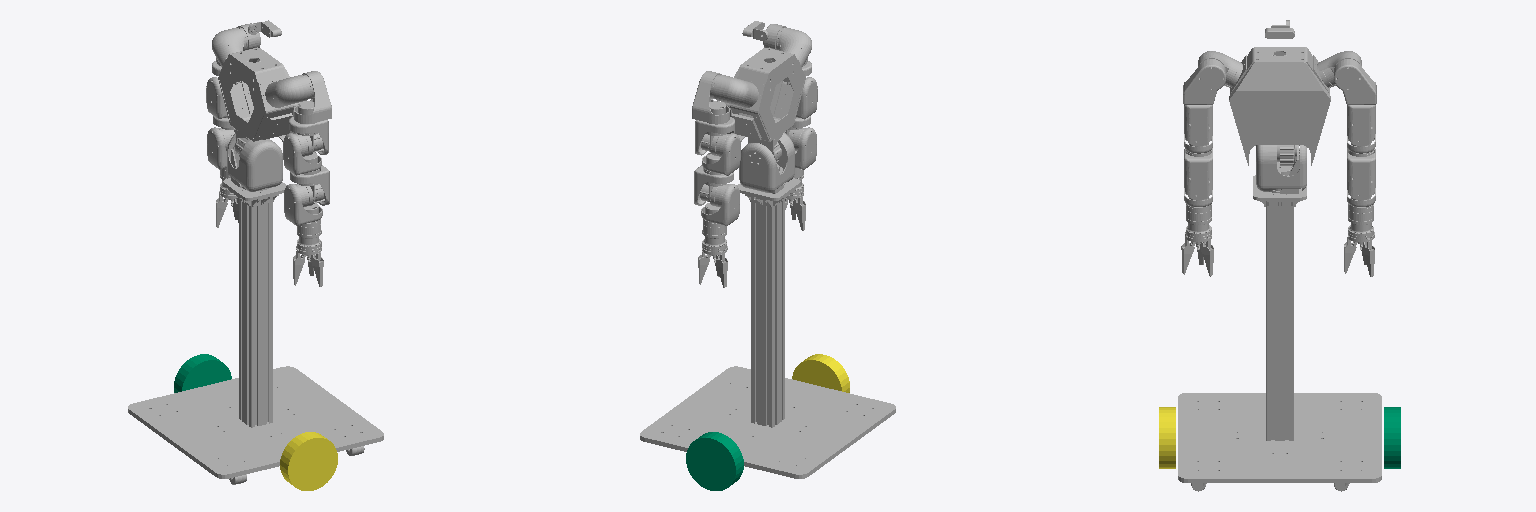
--- Render facts (derived) ---
3 views of the same robot in one strip: view 1: azimuth 30°, elevation 25°; view 2: azimuth 150°, elevation 25°; view 3: azimuth 270°, elevation 25° (orthographic).
Robot: raybotacan22 — 25 links, 24 joints (21 revolute, 2 continuous, 1 fixed); root link world; default pose: every joint at zero.
Links seen in each view (by area): view 1: base_chasis, aia2, right_wheel, aia1, ail7, left_wheel, ail6, ail4, ail1, ail2, ail3, ail5 (+4 smaller); view 2: base_chasis, aia2, left_wheel, aia1, right_wheel, air7, air6, air4, air1, air2, air3, ail6 (+4 smaller); view 3: base_chasis, aia2, aia1, ail7, air7, air2, ail2, air5, ail5, air3, ail3, left_wheel (+1 smaller).
Link boxes in pixels (left/top/right/bottom): base_chasis: left=128, top=178, right=383, bottom=484; aia2: left=218, top=47, right=299, bottom=156; right_wheel: left=280, top=432, right=337, bottom=490; aia1: left=227, top=133, right=282, bottom=191; ail7: left=293, top=203, right=323, bottom=286; left_wheel: left=174, top=354, right=231, bottom=392; ail6: left=284, top=184, right=323, bottom=225; ail4: left=283, top=133, right=322, bottom=175; ail1: left=265, top=75, right=309, bottom=107; ail2: left=294, top=71, right=331, bottom=123; ail3: left=289, top=101, right=328, bottom=154; ail5: left=290, top=153, right=329, bottom=205; base_chasis: left=640, top=178, right=895, bottom=478; aia2: left=724, top=48, right=805, bottom=162; left_wheel: left=686, top=432, right=743, bottom=490; aia1: left=739, top=133, right=794, bottom=193; right_wheel: left=792, top=354, right=849, bottom=392; air7: left=698, top=203, right=727, bottom=287; air6: left=700, top=184, right=739, bottom=225; air4: left=701, top=133, right=740, bottom=175; air1: left=714, top=75, right=758, bottom=107; air2: left=692, top=71, right=729, bottom=123; air3: left=695, top=101, right=734, bottom=155; ail6: left=784, top=127, right=816, bottom=169; base_chasis: left=1178, top=175, right=1381, bottom=491; aia2: left=1225, top=47, right=1334, bottom=165; aia1: left=1256, top=145, right=1306, bottom=193; ail7: left=1181, top=197, right=1213, bottom=276; air7: left=1344, top=197, right=1374, bottom=276; air2: left=1334, top=59, right=1376, bottom=104; ail2: left=1183, top=59, right=1225, bottom=104; air5: left=1347, top=143, right=1375, bottom=200; ail5: left=1184, top=143, right=1212, bottom=200; air3: left=1347, top=105, right=1375, bottom=146; ail3: left=1184, top=105, right=1212, bottom=146; left_wheel: left=1384, top=407, right=1400, bottom=468.
Size in the robot's own frame: 0.6 by 0.71 by 1.45 metres.
20 mesh visuals loaded from 22 distinct referenced files (20 binary STL); not drawn: 2 (reference not matched to a file when rendering).

The robot description file, URDF, robot "raybotacan22":
<?xml version="1.0" encoding="utf-8"?>
<!-- This URDF was automatically created by SolidWorks to URDF Exporter! Originally created by Stephen Brawner ([email redacted]) 
     Commit Version: 1.6.0-4-g7f85cfe  Build Version: 1.6.7995.38578
     For more information, please see http://wiki.ros.org/sw_urdf_exporter -->
<robot
  name="raybotacan22">
  <link name="world"/>
  <link
    name="base_chasis">
    <inertial>
      <origin
        xyz="0.000477702581074855 -0.00131261661421741 0.10354543068427"
        rpy="0 0 0" />
      <mass
        value="57.9795305796075" />
      <inertia
        ixx="1.78841728427267"
        ixy="9.16539713933502E-08"
        ixz="4.37549429419354E-10"
        iyy="1.78887745050641"
        iyz="-3.01983421149808E-05"
        izz="2.55269034678823" />
    </inertial>
    <visual>
      <origin
        xyz="0 0 0"
        rpy="0 0 0" />
      <geometry>
        <mesh
          filename="package://URDF/meshes/ai.STL" />
      </geometry>
      <material
        name="">
        <color
          rgba="0.752941176470588 0.752941176470588 0.752941176470588 1" />
      </material>
    </visual>
    <collision>
      <origin
        xyz="0 0 0"
        rpy="0 0 0" />
      <geometry>
        <mesh
          filename="package://URDF/meshes/ai.STL" />
      </geometry>
    </collision>
  </link>

  <joint name="world_joint" type="fixed">
    <origin xyz="0 0 0" rpy="0 0 0"/>
    <parent link="world"/>
    <child link="base_chasis"/>
  </joint>  
  
  <link name="left_wheel">
   <inertial>
    <mass value="5"/>
    <inertia
     ixx="0.1" ixy="0" ixz="0"
     iyy="0.1" iyz="0"
     izz="0.1"/>
   </inertial>

   <visual name="left_wheel_visual">
    <origin rpy="0 1.5707 1.5707" xyz="0 0 0"/>
    <geometry>
     <cylinder length="0.05" radius="0.09"/>
    </geometry>
   </visual>

   <collision name="left_wheel_collision">
    <origin rpy="0 1.5707 1.5707" xyz="0 0 0"/>
    <geometry>
     <cylinder length="0.05" radius="0.09"/>
    </geometry>
   </collision>
  </link>

  <joint name="left_wheel_joint" type="continuous">
    <origin xyz="0 0.33 0" rpy="0 0 0"/>
    <parent link="base_chasis"/>
    <child link="left_wheel"/>
    <axis xyz="0 1 0" rpy="0 0 0"/>
    <limit effort="1000" velocity="1000"/>
    <dynamic damping="1.0" friction="1.0"/>
  </joint>

  <link name="right_wheel">
   <inertial>
    <mass value="5"/>
    <inertia
     ixx="0.1" ixy="0" ixz="0"
     iyy="0.1" iyz="0"
     izz="0.1"/>
   </inertial>

   <visual name="right_wheel_visual">
    <origin rpy="0 -1.5707 1.5707" xyz="0 0 0"/>
    <geometry>
     <cylinder length="0.05" radius="0.09"/>
    </geometry>
   </visual>

   <collision name="right_wheel_collision">
    <origin rpy="0 -1.5707 1.5707" xyz="0 0 0"/>
    <geometry>
     <cylinder length="0.05" radius="0.09"/>
    </geometry>
   </collision>
  </link>

  <joint name="right_wheel_joint" type="continuous">
    <origin xyz="0 -0.33 0" rpy="0 0 0"/>
    <parent link="base_chasis"/>
    <child link="right_wheel"/>
    <axis xyz="0 1 0" rpy="0 0 0"/>
    <limit effort="1000" velocity="1000"/>
    <dynamic damping="1.0" friction="1.0"/>
  </joint>


  <link
    name="aia1">
    <inertial>
      <origin
        xyz="9.55990591309294E-05 0.0122165490390095 0.0542839940830137"
        rpy="0 0 0" />
      <mass
        value="3.5097858246545" />
      <inertia
        ixx="0.0123862229468066"
        ixy="7.07687040546559E-07"
        ixz="7.16997745756968E-08"
        iyy="0.0107160246961095"
        iyz="-0.000361916903254579"
        izz="0.01240074125766" />
    </inertial>
    <visual>
      <origin
        xyz="0 0 0"
        rpy="0 0 0" />
      <geometry>
        <mesh
          filename="package://URDF/meshes/aia1.STL" />
      </geometry>
      <material
        name="">
        <color
          rgba="0.752941176470588 0.752941176470588 0.752941176470588 1" />
      </material>
    </visual>
    <collision>
      <origin
        xyz="0 0 0"
        rpy="0 0 0" />
      <geometry>
        <mesh
          filename="package://URDF/meshes/aia1.STL" />
      </geometry>
    </collision>
  </link>
  <joint
    name="ia1"
    type="revolute">
    <origin
      xyz="0 0 0.8235"
      rpy="0 0 0" />
    <parent
      link="base_chasis"/>
    <child
      link="aia1" />
    <axis
      xyz="0 0 1" />
    <limit
      lower="0"
      upper="0"
      effort="0"
      velocity="0" />
  </joint>
  <link
    name="aia2">
    <inertial>
      <origin
        xyz="0.0207105695496934 0.15549630853959 0.0422191791471108"
        rpy="0 0 0" />
      <mass
        value="11.5092978911004" />
      <inertia
        ixx="0.111894811595065"
        ixy="-0.00122753004573843"
        ixz="-3.87850448344067E-07"
        iyy="0.0789799485369126"
        iyz="-0.000298183073814912"
        izz="0.0488817529527659" />
    </inertial>
    <visual>
      <origin
        xyz="0 0 0"
        rpy="0 0 0" />
      <geometry>
        <mesh
          filename="package://URDF/meshes/aia2.STL" />
      </geometry>
      <material
        name="">
        <color
          rgba="0.752941176470588 0.752941176470588 0.752941176470588 1" />
      </material>
    </visual>
    <collision>
      <origin
        xyz="0 0 0"
        rpy="0 0 0" />
      <geometry>
        <mesh
          filename="package://URDF/meshes/aia2.STL" />
      </geometry>
    </collision>
  </link>
  <joint
    name="ia2"
    type="revolute">
    <origin
      xyz="0 0.045 0.115"
      rpy="1.5707963267949 0 0" />
    <parent
      link="aia1" />
    <child
      link="aia2" />
    <axis
      xyz="0 0 1" />
    <limit
      lower="0"
      upper="0"
      effort="0"
      velocity="0" />
  </joint>
  <link
    name="air1">
    <inertial>
      <origin
        xyz="0.00496010592416387 1.65068144599156E-05 -0.0203566709873281"
        rpy="0 0 0" />
      <mass
        value="0.704319744476214" />
      <inertia
        ixx="0.00117996029784947"
        ixy="-2.96296384386495E-07"
        ixz="0.000190450484413653"
        iyy="0.00111183962157051"
        iyz="-7.91473469672234E-08"
        izz="0.000992048080544377" />
    </inertial>
    <visual>
      <origin
        xyz="0 0 0"
        rpy="0 0 0" />
      <geometry>
        <mesh
          filename="package://URDF/meshes/air1.STL" />
      </geometry>
      <material
        name="">
        <color
          rgba="0.752941176470588 0.752941176470588 0.752941176470588 1" />
      </material>
    </visual>
    <collision>
      <origin
        xyz="0 0 0"
        rpy="0 0 0" />
      <geometry>
        <mesh
          filename="package://URDF/meshes/air1.STL" />
      </geometry>
    </collision>
  </link>
  <joint
    name="ir1"
    type="revolute">
    <origin
      xyz="2.47957237236168E-05 0.258705080756889 -0.121309875104682"
      rpy="0.523598775598286 0 0" />
    <parent
      link="aia2" />
    <child
      link="air1" />
    <axis
      xyz="0 0 1" />
    <limit
      lower="0"
      upper="0"
      effort="0"
      velocity="0" />
  </joint>
  <link
    name="air2">
    <inertial>
      <origin
        xyz="-0.0238840674777523 -0.00284989864727919 0.00733259273008347"
        rpy="0 0 0" />
      <mass
        value="2.16696749176185" />
      <inertia
        ixx="0.00224310851385974"
        ixy="-0.000265616580259458"
        ixz="-0.000514097509204816"
        iyy="0.00362773220471222"
        iyz="3.43332755444889E-05"
        izz="0.00405898161338322" />
    </inertial>
    <visual>
      <origin
        xyz="0 0 0"
        rpy="0 0 0" />
      <geometry>
        <mesh
          filename="package://URDF/meshes/air2.STL" />
      </geometry>
      <material
        name="">
        <color
          rgba="0.752941176470588 0.752941176470588 0.752941176470588 1" />
      </material>
    </visual>
    <collision>
      <origin
        xyz="0 0 0"
        rpy="0 0 0" />
      <geometry>
        <mesh
          filename="package://URDF/meshes/air2.STL" />
      </geometry>
    </collision>
  </link>
  <joint
    name="ir2"
    type="revolute">
    <origin
      xyz="0.066 0 -0.04"
      rpy="1.5707963267949 0 1.5707963267949" />
    <parent
      link="air1" />
    <child
      link="air2" />
    <axis
      xyz="0 0 1" />
    <limit
      lower="0"
      upper="0"
      effort="0"
      velocity="0" />
  </joint>
  <link
    name="air3">
    <inertial>
      <origin
        xyz="0.00163217644327796 0.0175350926353326 -0.0392794600481056"
        rpy="0 0 0" />
      <mass
        value="2.43210030597648" />
      <inertia
        ixx="0.00480738048481121"
        ixy="-1.26720748440508E-06"
        ixz="7.85074902722581E-07"
        iyy="0.00424325255277065"
        iyz="0.00112617134750392"
        izz="0.00391626846505219" />
    </inertial>
    <visual>
      <origin
        xyz="0 0 0"
        rpy="0 0 0" />
      <geometry>
        <mesh
          filename="package://URDF/meshes/air3.STL" />
      </geometry>
      <material
        name="">
        <color
          rgba="0.752941176470588 0.752941176470588 0.752941176470588 1" />
      </material>
    </visual>
    <collision>
      <origin
        xyz="0 0 0"
        rpy="0 0 0" />
      <geometry>
        <mesh
          filename="package://URDF/meshes/air3.STL" />
      </geometry>
    </collision>
  </link>
  <joint
    name="ir3"
    type="revolute">
    <origin
      xyz="-0.0934146766390931 0.00820103388847249 -0.0199999999999999"
      rpy="1.5707963267949 0 1.04719755119661" />
    <parent
      link="air2" />
    <child
      link="air3" />
    <axis
      xyz="0 0 1" />
    <limit
      lower="0"
      upper="0"
      effort="0"
      velocity="0" />
  </joint>
  <link
    name="air4">
    <inertial>
      <origin
        xyz="1.06676075112278E-05 -0.0174139708848574 0.0220470372194081"
        rpy="0 0 0" />
      <mass
        value="1.60575264215693" />
      <inertia
        ixx="0.00186489394892785"
        ixy="3.06088058565535E-07"
        ixz="-1.56495385416094E-07"
        iyy="0.00152451023223127"
        iyz="0.00031789895918364"
        izz="0.00214448037696319" />
    </inertial>
    <visual>
      <origin
        xyz="0 0 0"
        rpy="0 0 0" />
      <geometry>
        <mesh
          filename="package://URDF/meshes/air4.STL" />
      </geometry>
      <material
        name="">
        <color
          rgba="0.752941176470588 0.752941176470588 0.752941176470588 1" />
      </material>
    </visual>
    <collision>
      <origin
        xyz="0 0 0"
        rpy="0 0 0" />
      <geometry>
        <mesh
          filename="package://URDF/meshes/air4.STL" />
      </geometry>
    </collision>
  </link>
  <joint
    name="ir4"
    type="revolute">
    <origin
      xyz="0.00160503463483186 -0.0475000000000055 -0.0884999999999992"
      rpy="1.5707963267949 0 3.14159265358979" />
    <parent
      link="air3" />
    <child
      link="air4" />
    <axis
      xyz="0 0 -1" />
    <limit
      lower="0"
      upper="0"
      effort="0"
      velocity="0" />
  </joint>
  <link
    name="air5">
    <inertial>
      <origin
        xyz="2.4373236247488E-05 0.0175198912459822 -0.0432794600387087"
        rpy="0 0 0" />
      <mass
        value="2.43210030636314" />
      <inertia
        ixx="0.00480774946362263"
        ixy="-1.47460168717547E-06"
        ixz="8.08404778933603E-07"
        iyy="0.00424288357424889"
        iyz="0.00112654686883093"
        izz="0.0039162684651507" />
    </inertial>
    <visual>
      <origin
        xyz="0 0 0"
        rpy="0 0 0" />
      <geometry>
        <mesh
          filename="package://URDF/meshes/air5.STL" />
      </geometry>
      <material
        name="">
        <color
          rgba="0.752941176470588 0.752941176470588 0.752941176470588 1" />
      </material>
    </visual>
    <collision>
      <origin
        xyz="0 0 0"
        rpy="0 0 0" />
      <geometry>
        <mesh
          filename="package://URDF/meshes/air5.STL" />
      </geometry>
    </collision>
  </link>
  <joint
    name="ir5"
    type="revolute">
    <origin
      xyz="0 -0.0809999999999995 0.0510000000000058"
      rpy="1.5707963267949 0 -3.14159265358979" />
    <parent
      link="air4" />
    <child
      link="air5" />
    <axis
      xyz="0 0 1" />
    <limit
      lower="0"
      upper="0"
      effort="0"
      velocity="0" />
  </joint>
  <link
    name="air6">
    <inertial>
      <origin
        xyz="0.000482151908676648 -0.0174189067798282 0.0217500155982719"
        rpy="0 0 0" />
      <mass
        value="1.60575264215696" />
      <inertia
        ixx="0.00186458811162898"
        ixy="9.90203978632472E-06"
        ixz="-8.83428324940965E-06"
        iyy="0.00152481606953021"
        iyz="0.000318001523026556"
        izz="0.00214448037696325" />
    </inertial>
    <visual>
      <origin
        xyz="0 0 0"
        rpy="0 0 0" />
      <geometry>
        <mesh
          filename="package://URDF/meshes/air6.STL" />
      </geometry>
      <material
        name="">
        <color
          rgba="0.752941176470588 0.752941176470588 0.752941176470588 1" />
      </material>
    </visual>
    <collision>
      <origin
        xyz="0 0 0"
        rpy="0 0 0" />
      <geometry>
        <mesh
          filename="package://URDF/meshes/air6.STL" />
      </geometry>
    </collision>
  </link>
  <joint
    name="ir6"
    type="revolute">
    <origin
      xyz="0 -0.0475000000000002 -0.0925000000000014"
      rpy="1.5707963267949 0.0282707829703375 -3.14159265358979" />
    <parent
      link="air5" />
    <child
      link="air6" />
    <axis
      xyz="0 0 -1" />
    <limit
      lower="0"
      upper="0"
      effort="0"
      velocity="0" />
  </joint>
  <link
    name="air7">
    <inertial>
      <origin
        xyz="-6.27123841931421E-06 1.72977291047066E-05 -0.0852735858335784"
        rpy="0 0 0" />
      <mass
        value="2.39752294354751" />
      <inertia
        ixx="0.00117179090988846"
        ixy="4.3870837845693E-07"
        ixz="1.80121704160013E-07"
        iyy="0.00117303062393052"
        iyz="6.15780063159447E-08"
        izz="0.0015602934918433" />
    </inertial>
    <visual>
      <origin
        xyz="0 0 0"
        rpy="0 0 0" />
      <geometry>
        <mesh
          filename="package://URDF/meshes/air7.STL" />
      </geometry>
      <material
        name="">
        <color
          rgba="0.752941176470588 0.752941176470588 0.752941176470588 1" />
      </material>
    </visual>
    <collision>
      <origin
        xyz="0 0 0"
        rpy="0 0 0" />
      <geometry>
        <mesh
          filename="package://URDF/meshes/air7.STL" />
      </geometry>
    </collision>
  </link>
  <joint
    name="ir7"
    type="revolute">
    <origin
      xyz="0.00228962839946859 -0.0809676330504502 0.0509999999999999"
      rpy="1.5707963267949 0 -3.11332187061946" />
    <parent
      link="air6" />
    <child
      link="air7" />
    <axis
      xyz="0 0 1" />
    <limit
      lower="0"
      upper="0"
      effort="0"
      velocity="0" />
  </joint>
  <link
    name="air8">
    <inertial>
      <origin
        xyz="0.000197061685967531 -9.86050862588836E-05 0.00492806950736784"
        rpy="0 0 0" />
      <mass
        value="0.390289005168159" />
      <inertia
        ixx="9.45017078208456E-05"
        ixy="-3.21617522496737E-07"
        ixz="1.36869495803431E-07"
        iyy="9.42772763134407E-05"
        iyz="-6.84737393252382E-08"
        izz="0.000165504195650422" />
    </inertial>
    <visual>
      <origin
        xyz="0 0 0"
        rpy="0 0 0" />
      <geometry>
        <mesh
          filename="package://URDF/meshes/air8.STL" />
      </geometry>
      <material
        name="">
        <color
          rgba="0.752941176470588 0.752941176470588 0.752941176470588 1" />
      </material>
    </visual>
    <collision>
      <origin
        xyz="0 0 0"
        rpy="0 0 0" />
      <geometry>
        <mesh
          filename="package://URDF/meshes/air8.STL" />
      </geometry>
    </collision>
  </link>
  <joint
    name="ir8"
    type="revolute">
    <origin
      xyz="0 0 -0.0945000000000031"
      rpy="0 0 0" />
    <parent
      link="air7" />
    <child
      link="air8" />
    <axis
      xyz="0 0 -1" />
    <limit
      lower="0"
      upper="0"
      effort="0"
      velocity="0" />
  </joint>
  <link
    name="ail1">
    <inertial>
      <origin
        xyz="0.00496004624344822 -1.96384237853842E-05 0.0203566934494321"
        rpy="0 0 0" />
      <mass
        value="0.704317483213741" />
      <inertia
        ixx="0.00117995852107559"
        ixy="2.96572984804185E-07"
        ixz="-0.00019045018707873"
        iyy="0.0011118396010713"
        iyz="-7.77434746497655E-08"
        izz="0.000992047320248837" />
    </inertial>
    <visual>
      <origin
        xyz="0 0 0"
        rpy="0 0 0" />
      <geometry>
        <mesh
          filename="package://URDF/meshes/ail1.STL" />
      </geometry>
      <material
        name="">
        <color
          rgba="0.752941176470588 0.752941176470588 0.752941176470588 1" />
      </material>
    </visual>
    <collision>
      <origin
        xyz="0 0 0"
        rpy="0 0 0" />
      <geometry>
        <mesh
          filename="package://URDF/meshes/ail1.STL" />
      </geometry>
    </collision>
  </link>
  <joint
    name="il1"
    type="revolute">
    <origin
      xyz="2.47957237256239E-05 0.258705080756887 0.211251213389434"
      rpy="-0.523598775598299 0 0" />
    <parent
      link="aia2" />
    <child
      link="ail1" />
    <axis
      xyz="0 0 -1" />
    <limit
      lower="0"
      upper="0"
      effort="0"
      velocity="0" />
  </joint>
  <link
    name="ail2">
    <inertial>
      <origin
        xyz="-0.0238685443238983 0.00285256462574018 0.00733243611898823"
        rpy="0 0 0" />
      <mass
        value="2.16696572771331" />
      <inertia
        ixx="0.00224326685033901"
        ixy="0.000265022932734069"
        ixz="-0.000513814042185544"
        iyy="0.00362752451677224"
        iyz="-3.42658602173161E-05"
        izz="0.00405899154488006" />
    </inertial>
    <visual>
      <origin
        xyz="0 0 0"
        rpy="0 0 0" />
      <geometry>
        <mesh
          filename="package://URDF/meshes/ail2.STL" />
      </geometry>
      <material
        name="">
        <color
          rgba="0.752941176470588 0.752941176470588 0.752941176470588 1" />
      </material>
    </visual>
    <collision>
      <origin
        xyz="0 0 0"
        rpy="0 0 0" />
      <geometry>
        <mesh
          filename="package://URDF/meshes/ail2.STL" />
      </geometry>
    </collision>
  </link>
  <joint
    name="il2"
    type="revolute">
    <origin
      xyz="0.066 0 0.0399999999999974"
      rpy="1.5707963267949 0 1.5707963267949" />
    <parent
      link="ail1" />
    <child
      link="ail2" />
    <axis
      xyz="0 0 1" />
    <limit
      lower="0"
      upper="0"
      effort="0"
      velocity="0" />
  </joint>
  <link
    name="ail3">
    <inertial>
      <origin
        xyz="2.11059401468427E-05 0.0121959559738994 -0.0257424941571686"
        rpy="0 0 0" />
      <mass
        value="1.74913628406169" />
      <inertia
        ixx="0.00267899013511265"
        ixy="-7.61971896469586E-07"
        ixz="3.64074720533394E-07"
        iyy="0.00242971938365454"
        iyz="0.0005629931992217"
        izz="0.00241131762952659" />
    </inertial>
    <visual>
      <origin
        xyz="0 0 0"
        rpy="0 0 0" />
      <geometry>
        <mesh
          filename="package://URDF/meshes/ail3.STL" />
      </geometry>
      <material
        name="">
        <color
          rgba="0.752941176470588 0.752941176470588 0.752941176470588 1" />
      </material>
    </visual>
    <collision>
      <origin
        xyz="0 0 0"
        rpy="0 0 0" />
      <geometry>
        <mesh
          filename="package://URDF/meshes/ail3.STL" />
      </geometry>
    </collision>
  </link>
  <joint
    name="il3"
    type="revolute">
    <origin
      xyz="-0.0990207473096856 -0.0132910346561897 -0.02"
      rpy="1.5707963267949 0 2.0943951023932" />
    <parent
      link="ail2" />
    <child
      link="ail3" />
    <axis
      xyz="0 0 1" />
    <limit
      lower="0"
      upper="0"
      effort="0"
      velocity="0" />
  </joint>
  <link
    name="ail4">
    <inertial>
      <origin
        xyz="-1.16779342086704E-05 -0.0174223767005539 0.0220470372186569"
        rpy="0 0 0" />
      <mass
        value="1.60575264205191" />
      <inertia
        ixx="0.00186509332216502"
        ixy="4.33271645638664E-07"
        ixz="1.84322713104503E-07"
        iyy="0.00152431085897292"
        iyz="0.000318075486156483"
        izz="0.00214448037694084" />
    </inertial>
    <visual>
      <origin
        xyz="0 0 0"
        rpy="0 0 0" />
      <geometry>
        <mesh
          filename="package://URDF/meshes/ail4.STL" />
      </geometry>
      <material
        name="">
        <color
          rgba="0.752941176470588 0.752941176470588 0.752941176470588 1" />
      </material>
    </visual>
    <collision>
      <origin
        xyz="0 0 0"
        rpy="0 0 0" />
      <geometry>
        <mesh
          filename="package://URDF/meshes/ail4.STL" />
      </geometry>
    </collision>
  </link>
  <joint
    name="il4"
    type="revolute">
    <origin
      xyz="0 -0.0475000000000062 -0.0810999999999941"
      rpy="1.5707963267949 0 -3.14159265358979" />
    <parent
      link="ail3" />
    <child
      link="ail4" />
    <axis
      xyz="0 0 -1" />
    <limit
      lower="0"
      upper="0"
      effort="0"
      velocity="0" />
  </joint>
  <link
    name="ail5">
    <inertial>
      <origin
        xyz="2.10708434758844E-05 0.0121959714363295 -0.0371424941575489"
        rpy="0 0 0" />
      <mass
        value="1.74913628404885" />
      <inertia
        ixx="0.00267899192659596"
        ixy="-7.64652641072267E-07"
        ixz="3.64716990251312E-07"
        iyy="0.00242971759216793"
        iyz="0.000562993002769313"
        izz="0.00241131762952712" />
    </inertial>
    <visual>
      <origin
        xyz="0 0 0"
        rpy="0 0 0" />
      <geometry>
        <mesh
          filename="package://URDF/meshes/ail5.STL" />
      </geometry>
      <material
        name="">
        <color
          rgba="0.752941176470588 0.752941176470588 0.752941176470588 1" />
      </material>
    </visual>
    <collision>
      <origin
        xyz="0 0 0"
        rpy="0 0 0" />
      <geometry>
        <mesh
          filename="package://URDF/meshes/ail5.STL" />
      </geometry>
    </collision>
  </link>
  <joint
    name="il5"
    type="revolute">
    <origin
      xyz="0 -0.0809999999999985 0.0510000000000032"
      rpy="1.57079632679488 0 3.14159265358979" />
    <parent
      link="ail4" />
    <child
      link="ail5" />
    <axis
      xyz="0 0 1" />
    <limit
      lower="0"
      upper="0"
      effort="0"
      velocity="0" />
  </joint>
  <link
    name="ail6">
    <inertial>
      <origin
        xyz="1.1670302302591E-05 -0.0174165231187286 0.0227500155975048"
        rpy="0 0 0" />
      <mass
        value="1.60575264205193" />
      <inertia
        ixx="0.00186506784458229"
        ixy="4.24272906435577E-07"
        ixz="-1.7733801874235E-07"
        iyy="0.00152433633655576"
        iyz="0.000317937805651959"
        izz="0.00214448037694094" />
    </inertial>
    <visual>
      <origin
        xyz="0 0 0"
        rpy="0 0 0" />
      <geometry>
        <mesh
          filename="package://URDF/meshes/ail6.STL" />
      </geometry>
      <material
        name="">
        <color
          rgba="0.752941176470588 0.752941176470588 0.752941176470588 1" />
      </material>
    </visual>
    <collision>
      <origin
        xyz="0 0 0"
        rpy="0 0 0" />
      <geometry>
        <mesh
          filename="package://URDF/meshes/ail6.STL" />
      </geometry>
    </collision>
  </link>
  <joint
    name="il6"
    type="revolute">
    <origin
      xyz="0 -0.0485000000000052 -0.0924999999999905"
      rpy="1.5707963267949 0 3.14159265358979" />
    <parent
      link="ail5" />
    <child
      link="ail6" />
    <axis
      xyz="0 0 -1" />
    <limit
      lower="0"
      upper="0"
      effort="0"
      velocity="0" />
  </joint>
  <link
    name="ail7">
    <inertial>
      <origin
        xyz="-9.20476541399484E-06 1.73085905766368E-05 -0.0852735858214986"
        rpy="0 0 0" />
      <mass
        value="2.39752294323105" />
      <inertia
        ixx="0.00117181593551462"
        ixy="2.87615788709289E-07"
        ixz="1.80160850628637E-07"
        iyy="0.00117300559744483"
        iyz="6.13844283252583E-08"
        izz="0.00156029349191111" />
    </inertial>
    <visual>
      <origin
        xyz="0 0 0"
        rpy="0 0 0" />
      <geometry>
        <mesh
          filename="package://URDF/meshes/ail7.STL" />
      </geometry>
      <material
        name="">
        <color
          rgba="0.752941176470588 0.752941176470588 0.752941176470588 1" />
      </material>
    </visual>
    <collision>
      <origin
        xyz="0 0 0"
        rpy="0 0 0" />
      <geometry>
        <mesh
          filename="package://URDF/meshes/ail7.STL" />
      </geometry>
    </collision>
  </link>
  <joint
    name="il7"
    type="revolute">
    <origin
      xyz="0 -0.0810000000000019 0.0519999999999984"
      rpy="1.57079632679493 0 -3.14159265358978" />
    <parent
      link="ail6" />
    <child
      link="ail7" />
    <axis
      xyz="0 0 1" />
    <limit
      lower="0"
      upper="0"
      effort="0"
      velocity="0" />
  </joint>
  <link
    name="ail8">
    <inertial>
      <origin
        xyz="0.000207223599237388 -7.49312968874039E-05 0.000428070235120787"
        rpy="0 0 0" />
      <mass
        value="0.39028899829773" />
      <inertia
        ixx="9.45732112377983E-05"
        ixy="-2.8684008832689E-07"
        ixz="1.43926016023545E-07"
        iyy="9.4205771314023E-05"
        iyz="-5.2031150841198E-08"
        izz="0.000165504195607535" />
    </inertial>
    <visual>
      <origin
        xyz="0 0 0"
        rpy="0 0 0" />
      <geometry>
        <mesh
          filename="package://URDF/meshes/ail8.STL" />
      </geometry>
      <material
        name="">
        <color
          rgba="0.752941176470588 0.752941176470588 0.752941176470588 1" />
      </material>
    </visual>
    <collision>
      <origin
        xyz="0 0 0"
        rpy="0 0 0" />
      <geometry>
        <mesh
          filename="package://URDF/meshes/ail8.STL" />
      </geometry>
    </collision>
  </link>
  <joint
    name="il8"
    type="revolute">
    <origin
      xyz="0 0 -0.0900000000000104"
      rpy="0 0 0" />
    <parent
      link="ail7" />
    <child
      link="ail8" />
    <axis
      xyz="0 0 1" />
    <limit
      lower="0"
      upper="0"
      effort="0"
      velocity="0" />
  </joint>
  <link
    name="ait1">
    <inertial>
      <origin
        xyz="0.00119556956672964 -8.47583177571911E-05 0.0339076301999933"
        rpy="0 0 0" />
      <mass
        value="0.611983625845357" />
      <inertia
        ixx="0.000235352404324314"
        ixy="1.71521491477885E-08"
        ixz="6.85780895271467E-06"
        iyy="0.000138857579416486"
        iyz="-8.34829141686506E-07"
        izz="0.000131726125332746" />
    </inertial>
    <visual>
      <origin
        xyz="0 0 0"
        rpy="0 0 0" />
      <geometry>
        <mesh
          filename="package://URDF/meshes/ait1.STL" />
      </geometry>
      <material
        name="">
        <color
          rgba="0.752941176470588 0.752941176470588 0.752941176470588 1" />
      </material>
    </visual>
    <collision>
      <origin
        xyz="0 0 0"
        rpy="0 0 0" />
      <geometry>
        <mesh
          filename="package://URDF/meshes/ait1.STL" />
      </geometry>
    </collision>
  </link>
  <joint
    name="it1"
    type="revolute">
    <origin
      xyz="-0.0059752042762742 0.307647367097488 0.0449706691423772"
      rpy="-1.5707963267949 0 0" />
    <parent
      link="aia2" />
    <child
      link="ait1" />
    <axis
      xyz="0 0 1" />
    <limit
      lower="0"
      upper="0"
      effort="0"
      velocity="0" />
  </joint>
  <link
    name="ait2">
    <inertial>
      <origin
        xyz="2.3739296319724E-05 0.0510747547317696 0.0241579879683358"
        rpy="0 0 0" />
      <mass
        value="0.671346877272881" />
      <inertia
        ixx="0.00030289122395768"
        ixy="-1.05498327739038E-05"
        ixz="-1.12016853607358E-05"
        iyy="0.00015266514624631"
        iyz="-9.71720295968639E-06"
        izz="0.000208445726090548" />
    </inertial>
    <visual>
      <origin
        xyz="0 0 0"
        rpy="0 0 0" />
      <geometry>
        <mesh
          filename="package://URDF/meshes/ait2.STL" />
      </geometry>
      <material
        name="">
        <color
          rgba="0.752941176470588 0.752941176470588 0.752941176470588 1" />
      </material>
    </visual>
    <collision>
      <origin
        xyz="0 0 0"
        rpy="0 0 0" />
      <geometry>
        <mesh
          filename="package://URDF/meshes/ait2.STL" />
      </geometry>
    </collision>
  </link>
  <joint
    name="it2"
    type="revolute">
    <origin
      xyz="-0.019 0 0.0364999999999999"
      rpy="1.57079631455563 0 1.5707963267949" />
    <parent
      link="ait1" />
    <child
      link="ait2" />
    <axis
      xyz="0 0 -0.999999999999996" />
    <limit
      lower="0"
      upper="0"
      effort="0"
      velocity="0" />
  </joint>
  <link
    name="ait3">
    <inertial>
      <origin
        xyz="1.11022302462516E-16 0.0399497456724277 -0.0201654662268884"
        rpy="0 0 0" />
      <mass
        value="0.574503209026248" />
      <inertia
        ixx="0.000337670531632765"
        ixy="6.67547065664311E-08"
        ixz="-4.02147031686213E-18"
        iyy="0.000318097330938714"
        iyz="8.0157050338073E-06"
        izz="7.99030847181685E-05" />
    </inertial>
    <visual>
      <origin
        xyz="0 0 0"
        rpy="0 0 0" />
      <geometry>
        <mesh
          filename="package://URDF/meshes/ait3.STL" />
      </geometry>
      <material
        name="">
        <color
          rgba="0.752941176470588 0.752941176470588 0.752941176470588 1" />
      </material>
    </visual>
    <collision>
      <origin
        xyz="0 0 0"
        rpy="0 0 0" />
      <geometry>
        <mesh
          filename="package://URDF/meshes/ait3.STL" />
      </geometry>
    </collision>
  </link>
  <joint
    name="it3"
    type="revolute">
    <origin
      xyz="0.0232366000000007 0.0549999996389416 0.0295000006731594"
      rpy="1.5707963267949 0 1.5707963267949" />
    <parent
      link="ait2" />
    <child
      link="ait3" />
    <axis
      xyz="0 0 -1" />
    <limit
      lower="0"
      upper="0"
      effort="0"
      velocity="0" />
  </joint>
</robot>
